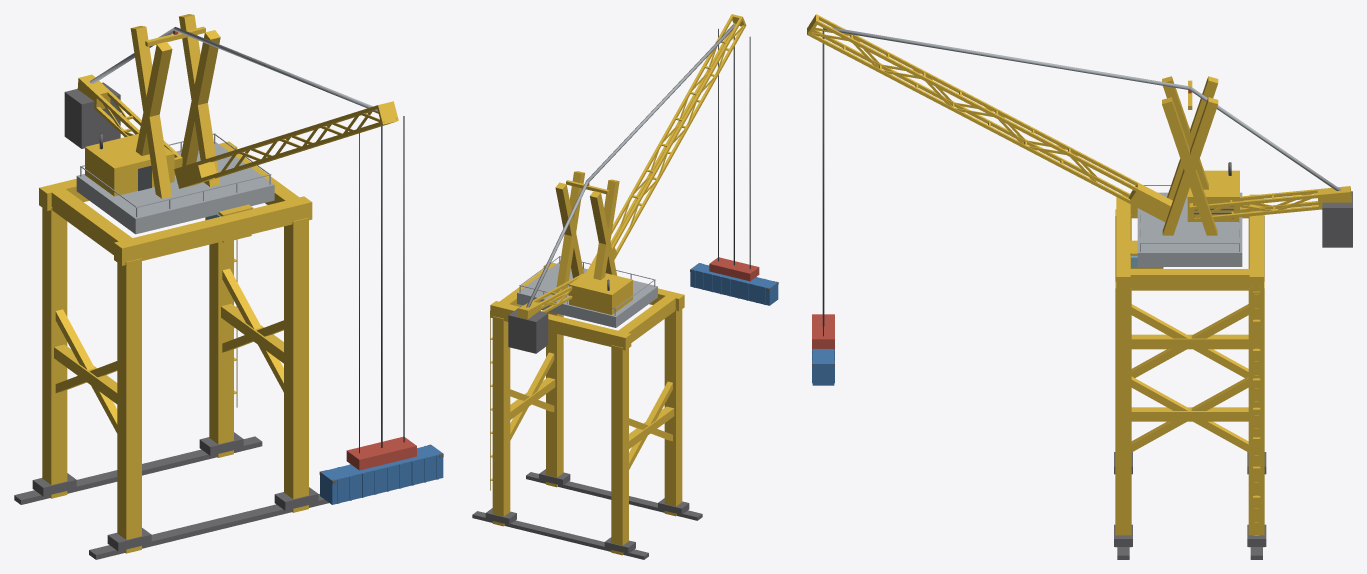
Rendered from port_crane.glb.
3 views of the same model, side by side, from view 1: azimuth 30°, elevation 25°; view 2: azimuth 150°, elevation 25°; view 3: azimuth 270°, elevation 25° (orthographic). The views are drawn at different scales.
Parts seen in each view (by area): view 1: Merged_CitySignYellow, Merged_RoofDark, Merged_PropsMetal, Merged_CityAccentBlue, Merged_WindowFrame, Merged_CityAccentRed; view 2: Merged_CitySignYellow, Merged_RoofDark, Merged_PropsMetal, Merged_CityAccentBlue, Merged_WindowFrame, Merged_CityAccentRed; view 3: Merged_CitySignYellow, Merged_PropsMetal, Merged_RoofDark, Merged_WindowFrame, Merged_CityAccentBlue, Merged_CityAccentRed.
Boxes of the visible parts, x1=… form: Merged_CitySignYellow: x1=39, y1=14, x2=398, y2=553; Merged_RoofDark: x1=14, y1=82, x2=443, y2=559; Merged_PropsMetal: x1=76, y1=27, x2=378, y2=234; Merged_CityAccentBlue: x1=320, y1=445, x2=443, y2=504; Merged_WindowFrame: x1=138, y1=116, x2=404, y2=453; Merged_CityAccentRed: x1=173, y1=30, x2=416, y2=470; Merged_CitySignYellow: x1=490, y1=14, x2=746, y2=555; Merged_RoofDark: x1=472, y1=263, x2=778, y2=559; Merged_PropsMetal: x1=517, y1=24, x2=735, y2=327; Merged_CityAccentBlue: x1=690, y1=263, x2=778, y2=305; Merged_WindowFrame: x1=718, y1=29, x2=750, y2=268; Merged_CityAccentRed: x1=587, y1=182, x2=759, y2=281; Merged_CitySignYellow: x1=807, y1=14, x2=1351, y2=547; Merged_PropsMetal: x1=823, y1=27, x2=1341, y2=266; Merged_RoofDark: x1=812, y1=162, x2=1352, y2=559; Merged_WindowFrame: x1=822, y1=28, x2=824, y2=336; Merged_CityAccentBlue: x1=812, y1=349, x2=834, y2=385; Merged_CityAccentRed: x1=812, y1=90, x2=1191, y2=348.
Size of the model in its own units: 26 by 56.82 by 57.33.
